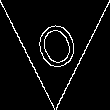O_NW: (28, 3, 82, 70)
